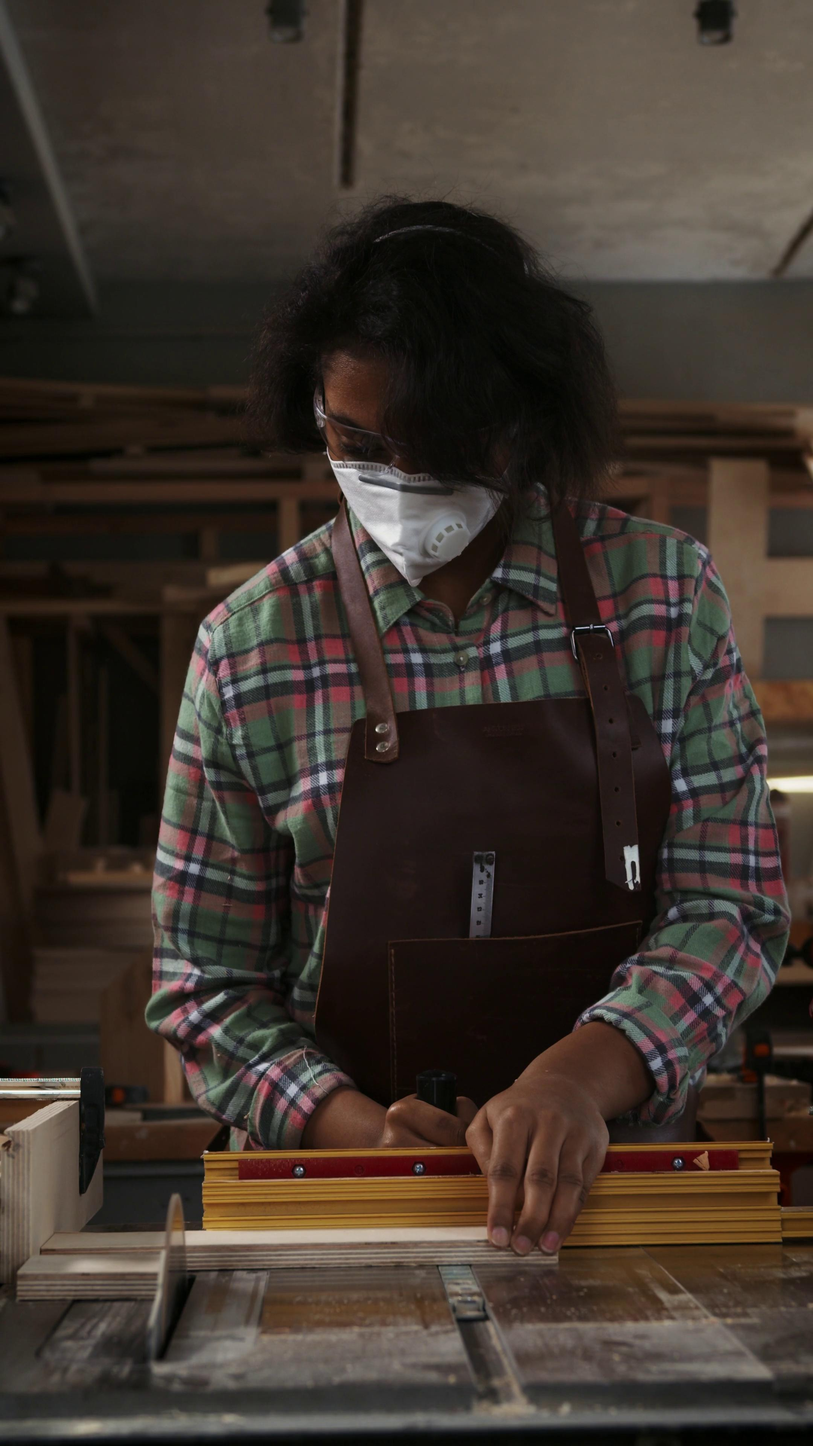mask: (326, 453, 505, 587)
person: (143, 195, 792, 1256)
